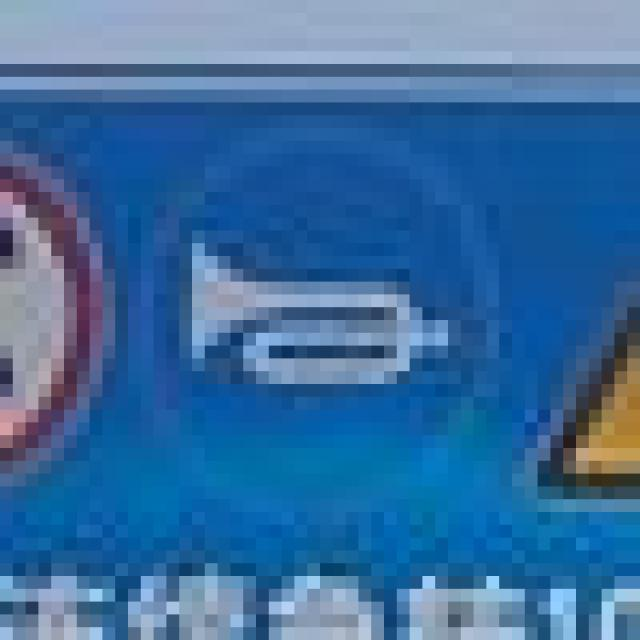COMPULSARY_SOUND_HORN: (128, 102, 499, 486)
